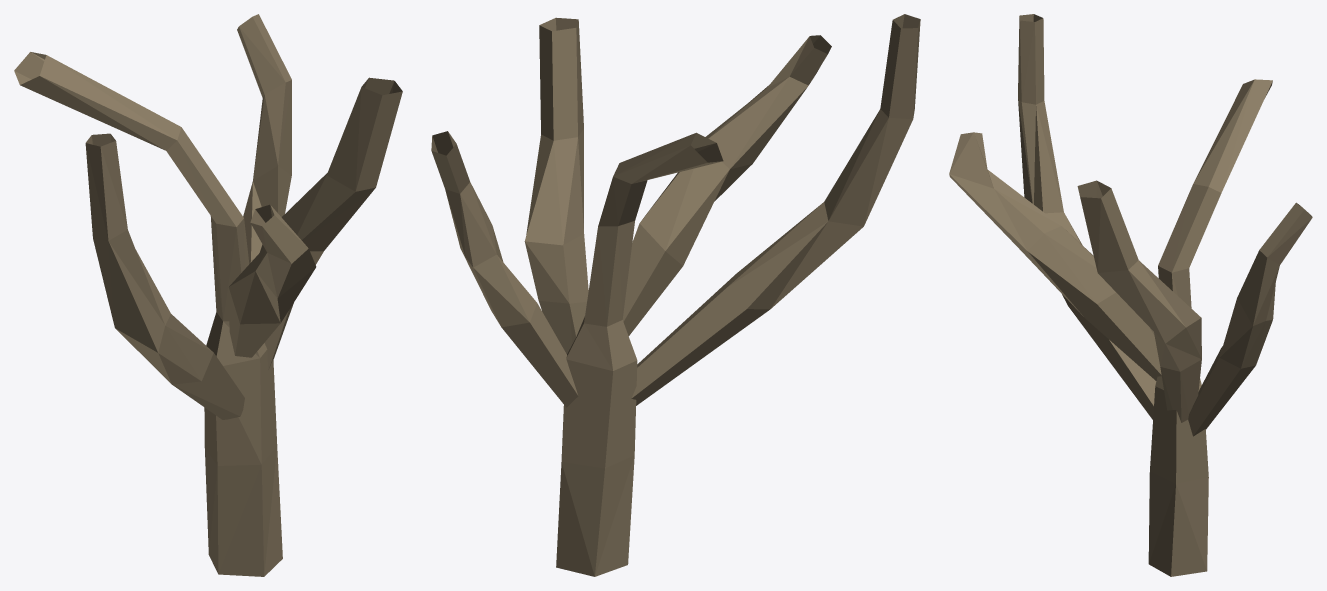
File: Apple_7_4.fbx
The picture shows the model from 3 angles, left to right: view 1: azimuth 30°, elevation 25°; view 2: azimuth 150°, elevation 25°; view 3: azimuth 270°, elevation 25°; orthographic projection. The views are drawn at different scales.
Visible parts, largest first — view 1: Apple_7_4; view 2: Apple_7_4; view 3: Apple_7_4.
Boxes of the visible parts, left/top/right/bottom form: Apple_7_4: left=14, top=14, right=402, bottom=576; Apple_7_4: left=431, top=14, right=920, bottom=576; Apple_7_4: left=949, top=14, right=1312, bottom=576.
Bounding box in the file's own units: 196 × 294 × 214.
